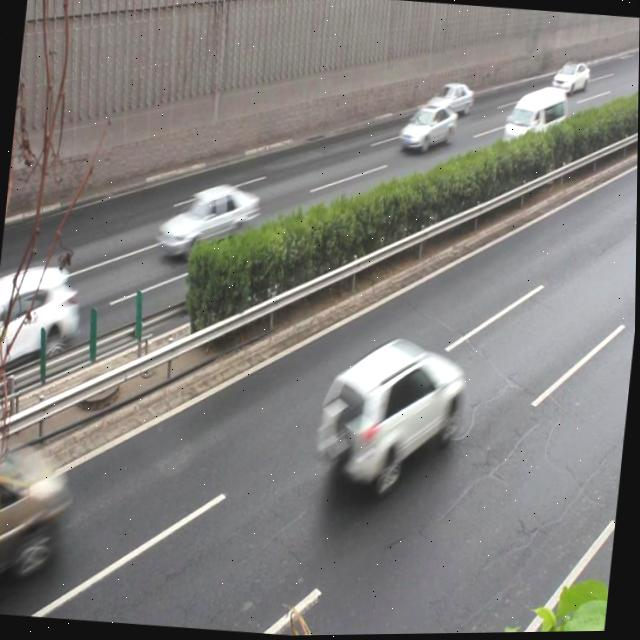car: (319, 333, 467, 494), (153, 177, 260, 266), (395, 101, 457, 156), (423, 79, 474, 120), (548, 58, 590, 99)
truck: (0, 432, 74, 597), (499, 84, 568, 163)
